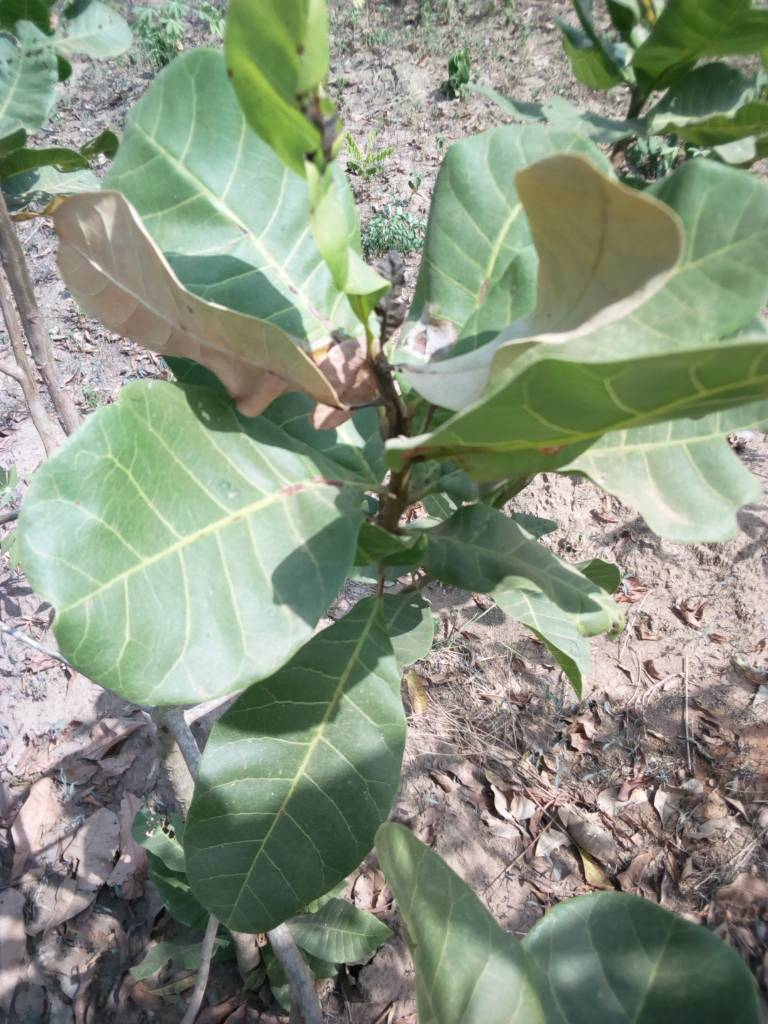Dessèchement des bourgeons: (361, 364, 449, 513)
